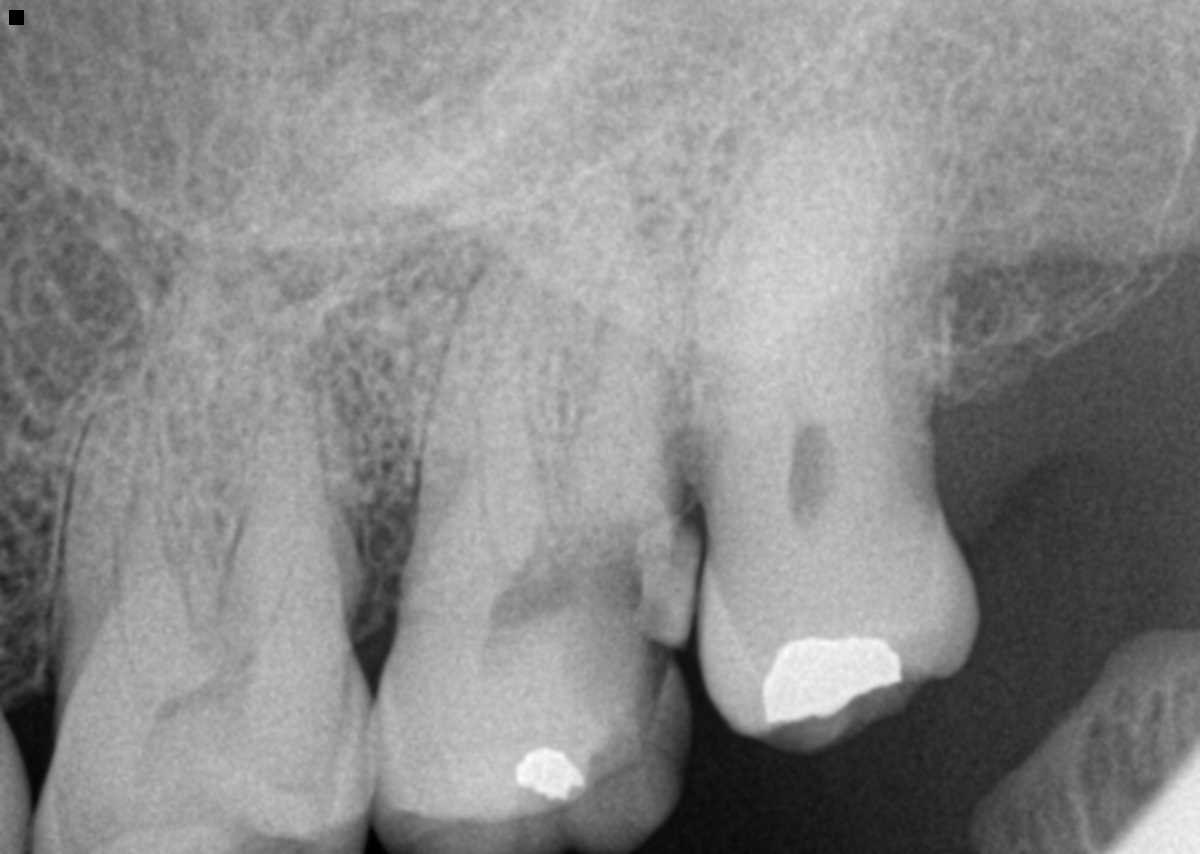Distal Canal: (269, 505, 298, 631)
Distal Root: (559, 226, 693, 513), (219, 384, 344, 634)
Main Canal: (476, 390, 493, 553)
Main Root: (692, 98, 940, 502)
Mesial Canal: (113, 510, 143, 678)
Mesial Root: (413, 247, 555, 582), (54, 399, 196, 665)
Palatal Root: (425, 157, 680, 537), (105, 208, 338, 621)
decay: (565, 553, 657, 777)
